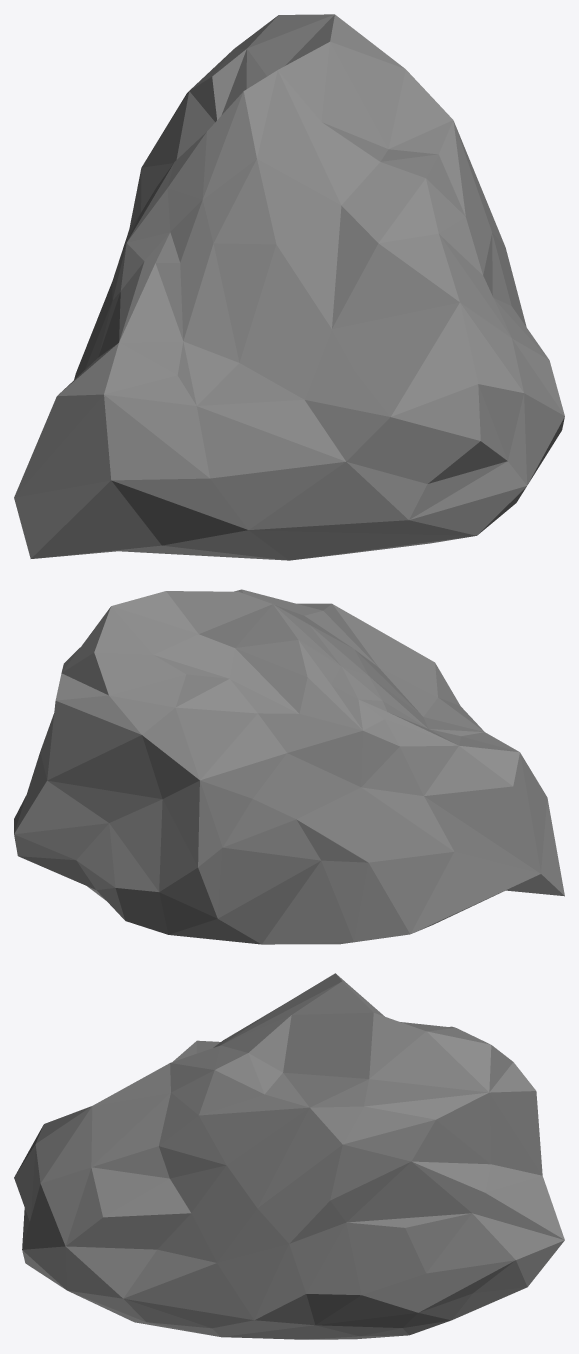
Rendered from rock_big01.fbx.
The picture shows the model from 3 angles, top to bottom: view 1: azimuth 30°, elevation 25°; view 2: azimuth 150°, elevation 25°; view 3: azimuth 270°, elevation 25°; orthographic projection. The views are drawn at different scales.
Visible parts, largest first — view 1: rock_big01; view 2: rock_big01; view 3: rock_big01.
Part boxes in pixels (box(x1,y1,x2,y2)): rock_big01: box(14, 14, 564, 560); rock_big01: box(14, 589, 564, 944); rock_big01: box(14, 973, 564, 1339).
Bounding box in the file's own units: 401 × 293 × 439.
